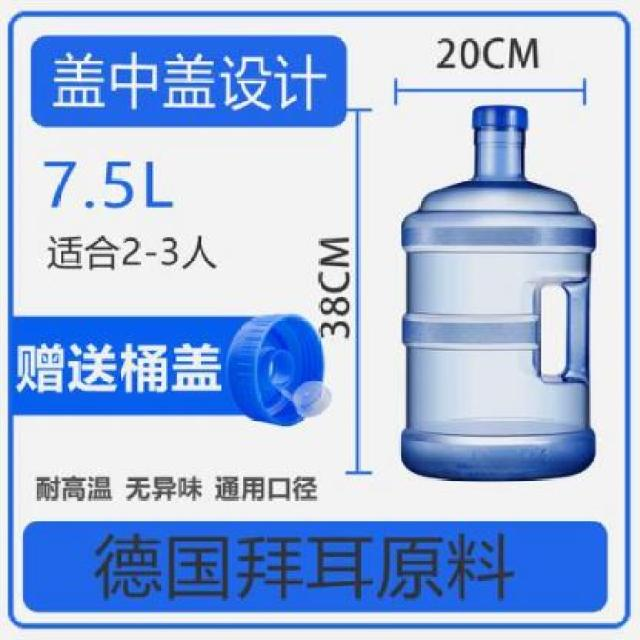coolerbottle: (399, 100, 606, 485)
